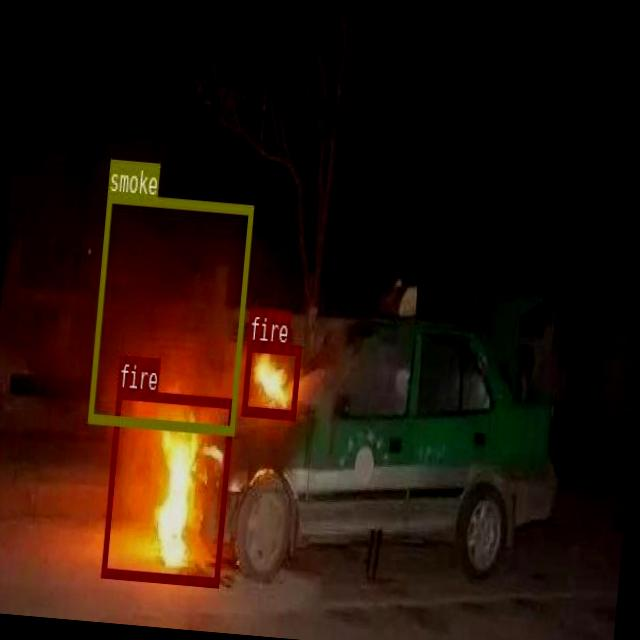fire: (100, 388, 234, 585), (240, 340, 300, 418)
smoke: (86, 192, 252, 434)
